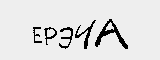А: (93, 18, 132, 50)
Е: (30, 25, 42, 46)
Р: (42, 24, 57, 47)
Ч: (74, 18, 94, 51)
Э: (57, 24, 73, 51)
